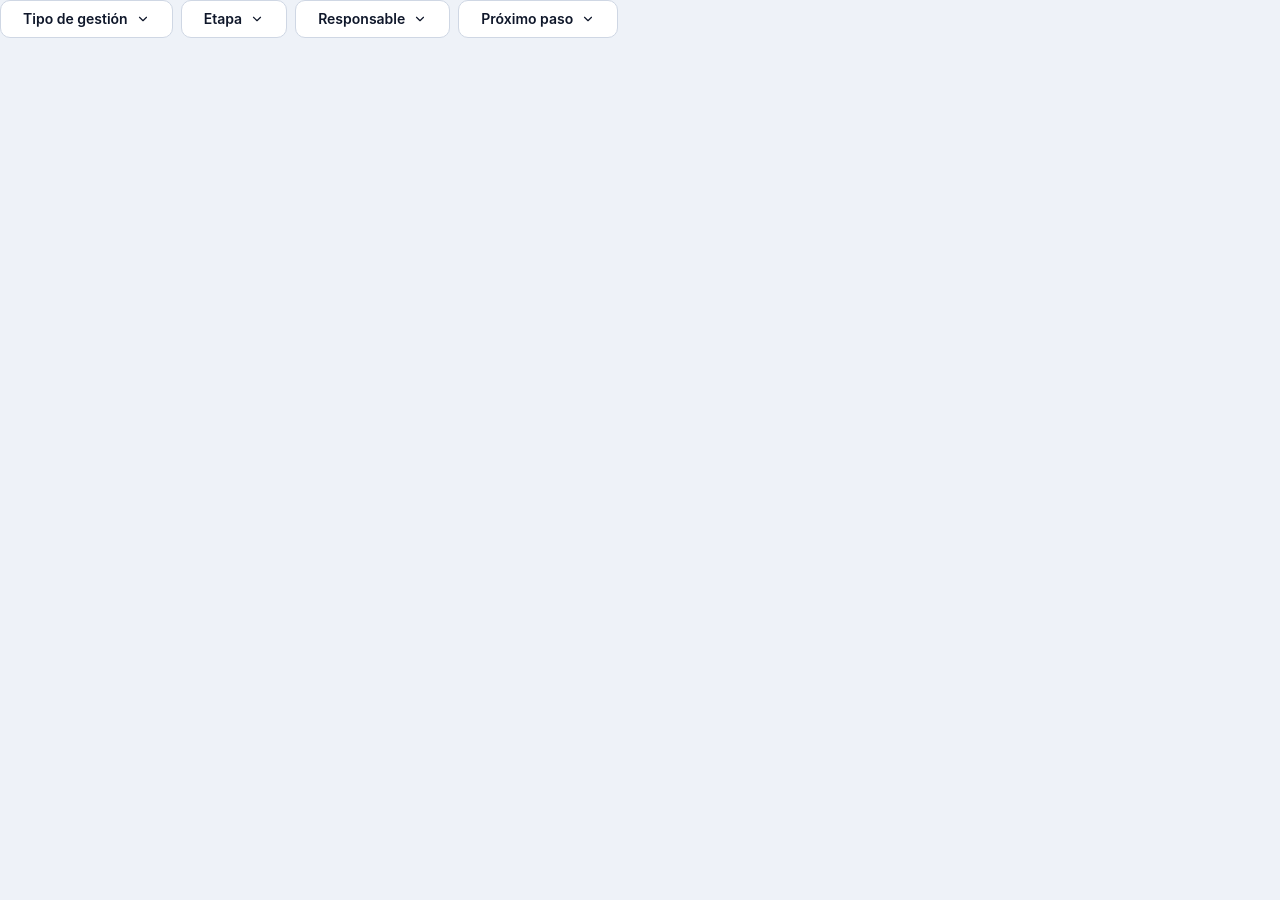
it: ManagementQuickFilters › offers «Yo» and skips users without email in Responsable
The width and height of the screenshot is (1280, 900).
What coordinates should you click on to do the following:
click the button "Responsable"
I would click on:
 (373, 19)
Its box is [295,0,450,38].
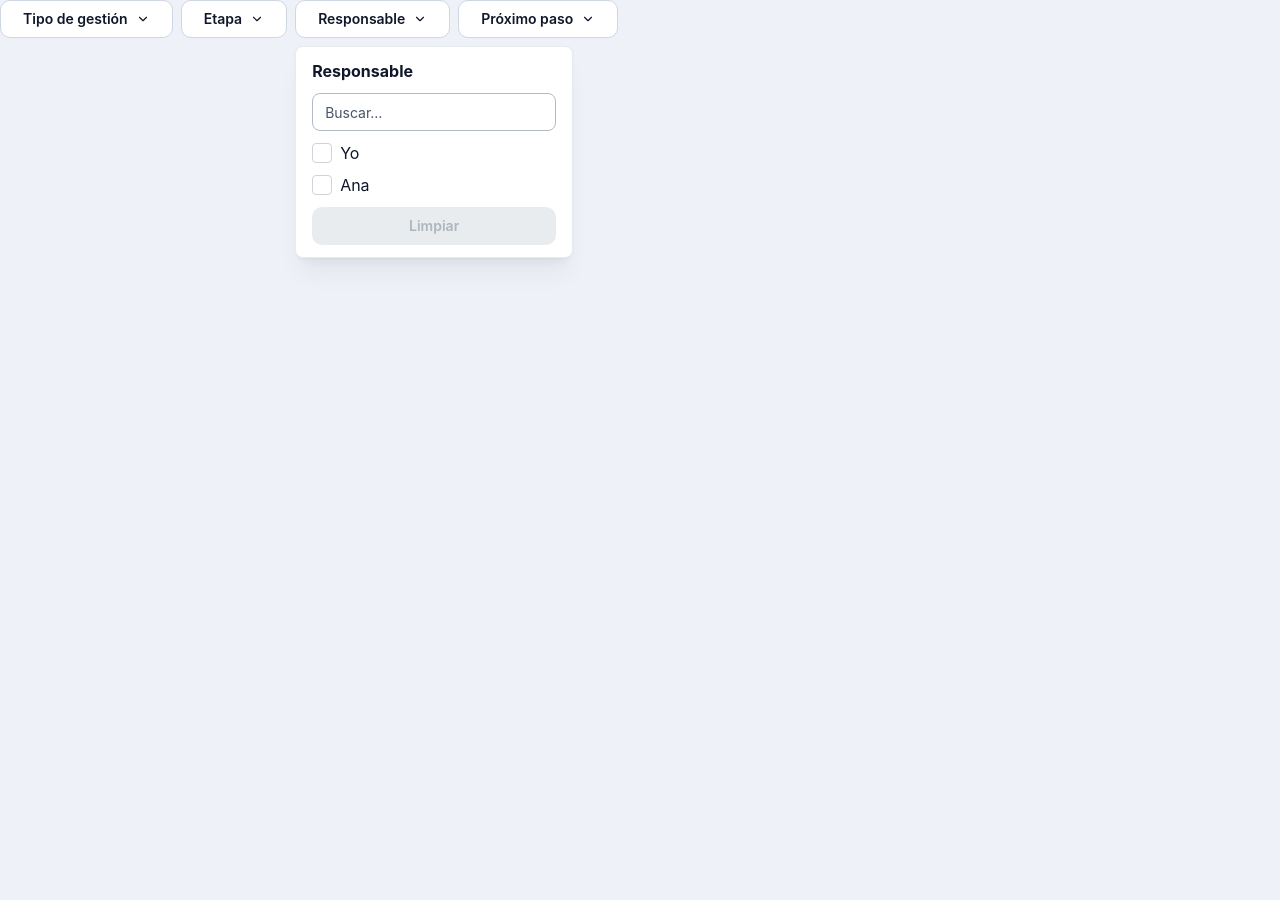
Now the text "Yo" is shown, box [312,143,359,163]
Now the text "Ana" is shown, box [312,175,370,195]
